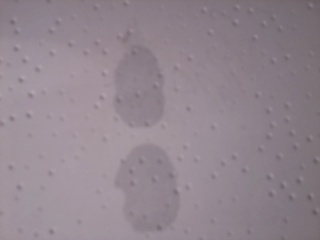Water_detected: (117, 62, 165, 203)
